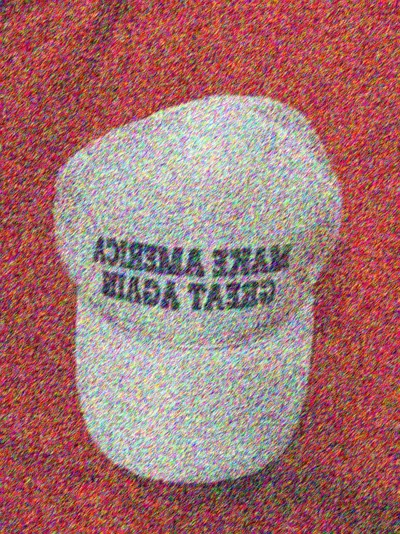Hat: (44, 65, 353, 496)
